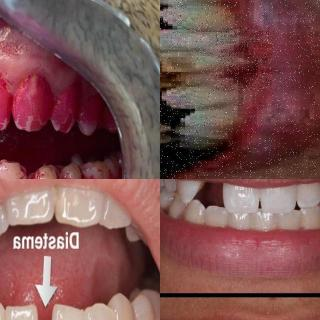maligned: (160, 68, 212, 99)
